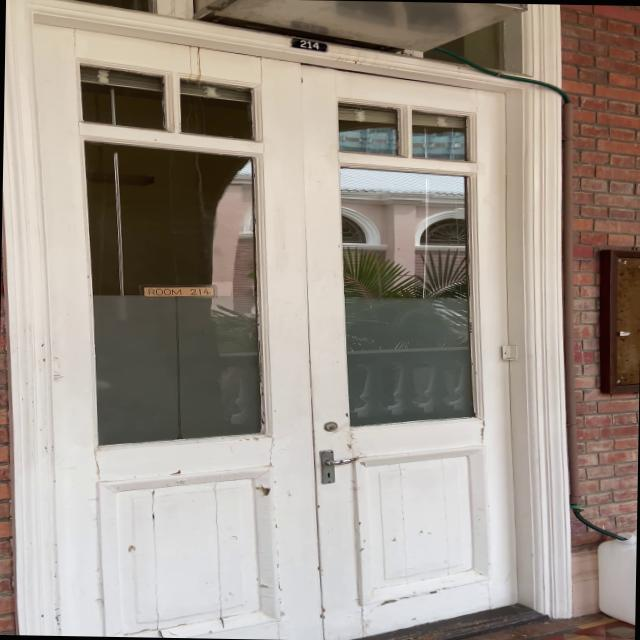room214: (288, 36, 330, 54)
room214Window: (130, 281, 222, 299)
